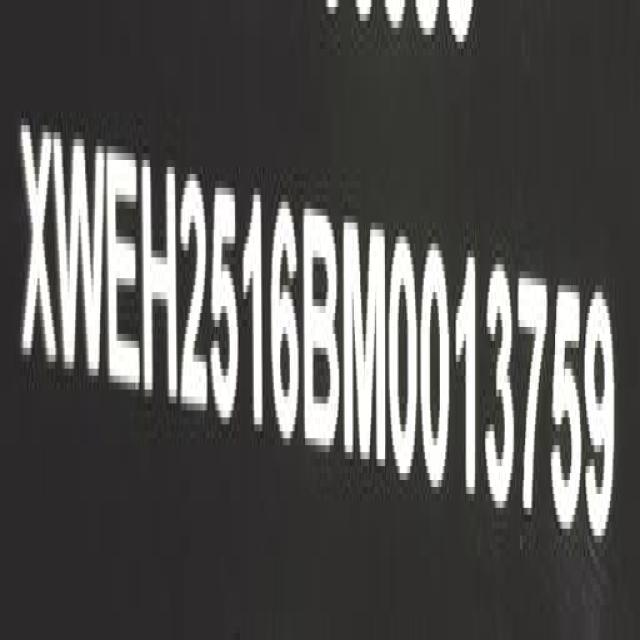0: (421, 226, 452, 501), (391, 213, 421, 489)
1: (242, 170, 266, 446), (456, 235, 480, 507)
2: (180, 156, 213, 432)
3: (483, 258, 516, 523)
5: (552, 262, 583, 541), (210, 183, 240, 440)
6: (268, 184, 302, 452)
7: (519, 254, 549, 534)
9: (585, 282, 618, 549)
B: (302, 189, 342, 465)
E: (107, 130, 142, 410)
H: (140, 150, 181, 412)
M: (341, 206, 387, 479)
W: (53, 108, 106, 401)
X: (18, 101, 58, 386)
